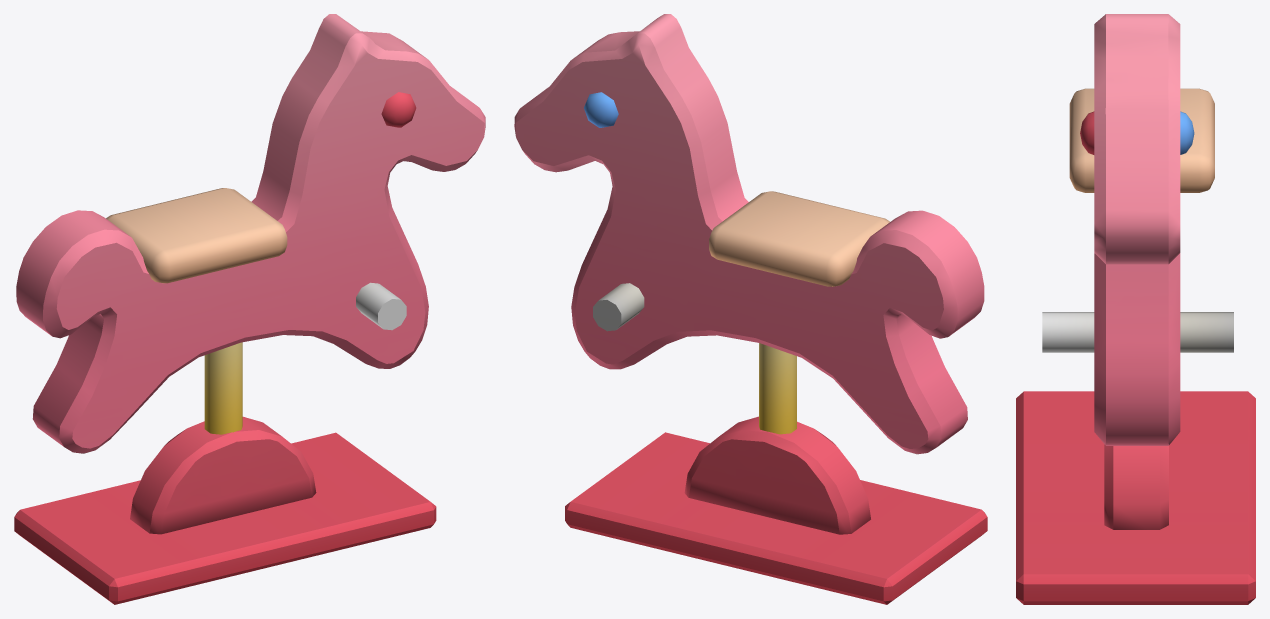
File: Seesaw_b.fbx
The picture shows the model from 3 angles, left to right: view 1: azimuth 30°, elevation 25°; view 2: azimuth 150°, elevation 25°; view 3: azimuth 270°, elevation 25°; orthographic projection. The views are drawn at different scales.
Parts seen in each view (by area): view 1: Seesaw_b, Seesaw_b_01; view 2: Seesaw_b, Seesaw_b_01; view 3: Seesaw_b, Seesaw_b_01.
Part boxes in pixels (x1=…): Seesaw_b: x1=16, y1=14, x2=485, y2=453; Seesaw_b_01: x1=14, y1=416, x2=436, y2=604; Seesaw_b: x1=514, y1=14, x2=984, y2=454; Seesaw_b_01: x1=565, y1=416, x2=987, y2=604; Seesaw_b: x1=1042, y1=14, x2=1233, y2=445; Seesaw_b_01: x1=1016, y1=391, x2=1255, y2=604.
Bounding box in the file's own units: 153 × 158 × 60.48.
